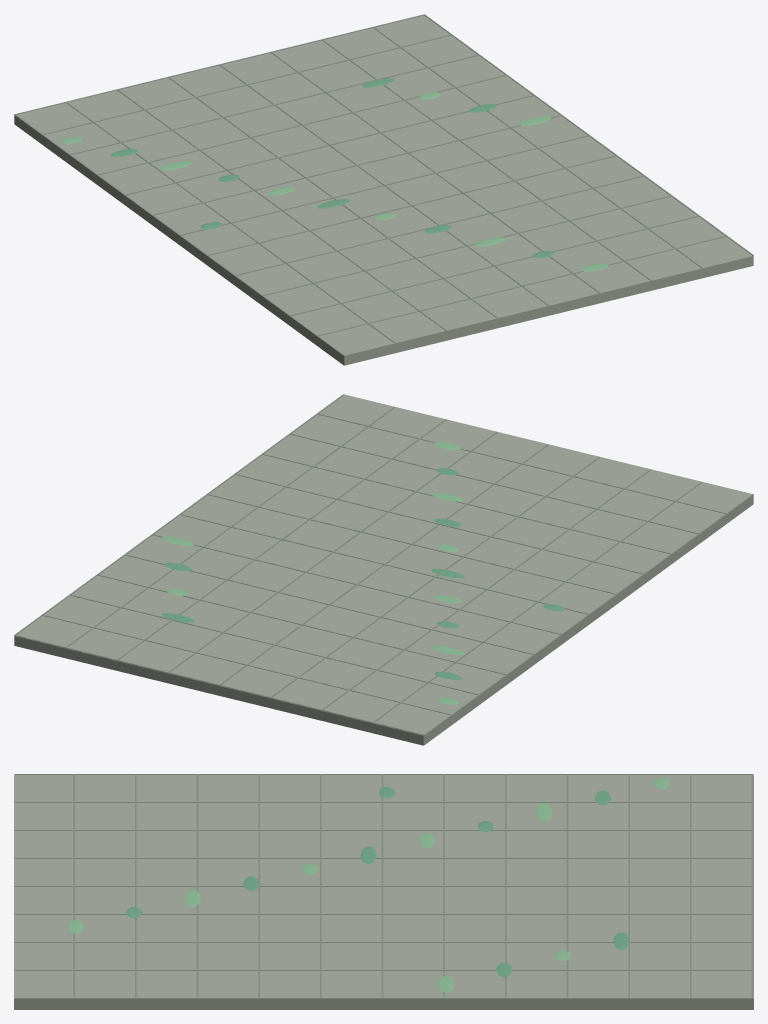
Rendered from plaza_losas.glb.
3 views of the same model, one above another, from view 1: azimuth 30°, elevation 25°; view 2: azimuth 150°, elevation 25°; view 3: azimuth 270°, elevation 25° (orthographic). The views are drawn at different scales.
Parts seen in each view (by area): view 1: plaza_losas; view 2: plaza_losas; view 3: plaza_losas.
Part boxes in pixels (box(x1,y1,x2,y2)): plaza_losas: box(14, 14, 753, 365); plaza_losas: box(14, 394, 753, 745); plaza_losas: box(14, 774, 753, 1009).
Bounding box in the file's own units: 17.25 × 0.42 × 24.
